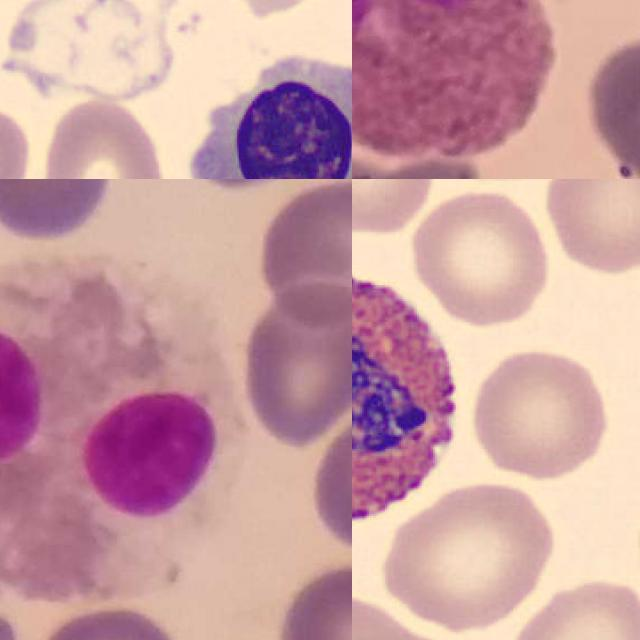Eosinophil: (0, 256, 244, 604), (352, 244, 475, 549), (352, 0, 562, 162)
Lymphocyte: (171, 41, 352, 179)
RBC: (376, 479, 559, 632), (406, 187, 552, 328), (467, 343, 613, 483), (0, 0, 176, 101), (36, 93, 173, 179), (537, 179, 639, 278), (505, 572, 639, 640), (352, 589, 466, 640), (352, 179, 438, 235), (0, 99, 36, 179)
